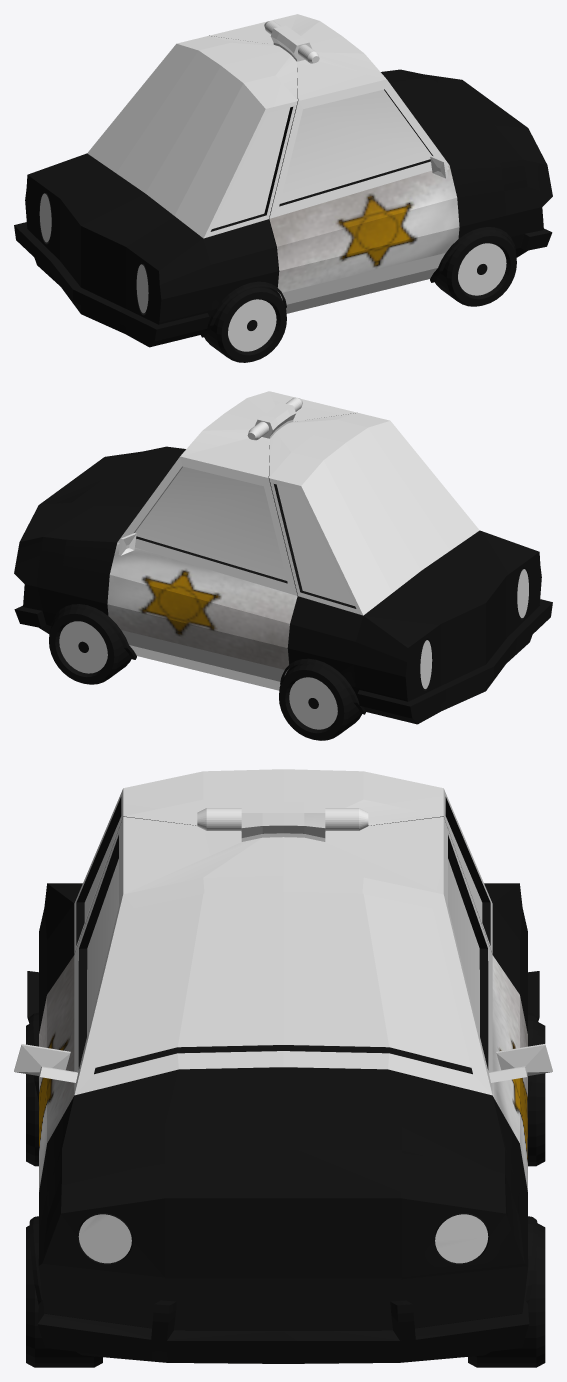
The model's file is mobil polisi3.fbx_Scene.fbx.
The picture shows the model from 3 angles, top to bottom: view 1: azimuth 30°, elevation 25°; view 2: azimuth 150°, elevation 25°; view 3: azimuth 270°, elevation 25°; orthographic projection. The views are drawn at different scales.
Parts seen in each view (by area): view 1: Cube, Circle.002, Circle.003; view 2: Cube, Circle.004, Circle.005; view 3: Cube, Circle.005, Circle.003, Circle.004, Circle.002.
Boxes of the visible parts, box(x1,y1,x2,y2) form: Cube: box(14, 14, 552, 347); Circle.002: box(204, 286, 286, 362); Circle.003: box(435, 232, 516, 306); Cube: box(14, 391, 552, 724); Circle.004: box(279, 663, 361, 740); Circle.005: box(49, 609, 131, 684); Cube: box(14, 769, 552, 1363); Circle.005: box(468, 1223, 545, 1367); Circle.003: box(26, 1226, 102, 1367); Circle.004: box(528, 1022, 545, 1166); Circle.002: box(26, 1024, 38, 1166).
Size of the model in its own units: 3205 by 1805 by 1970.
10 materials, 1 textured.
